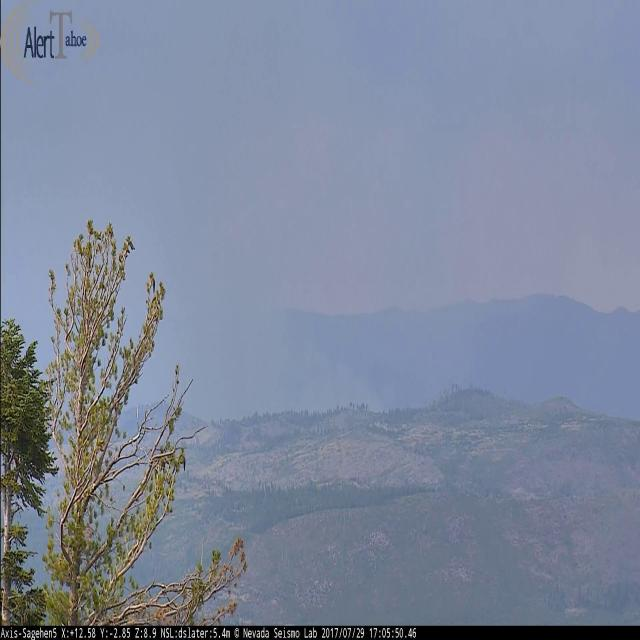smoke: (302, 328, 385, 415)
